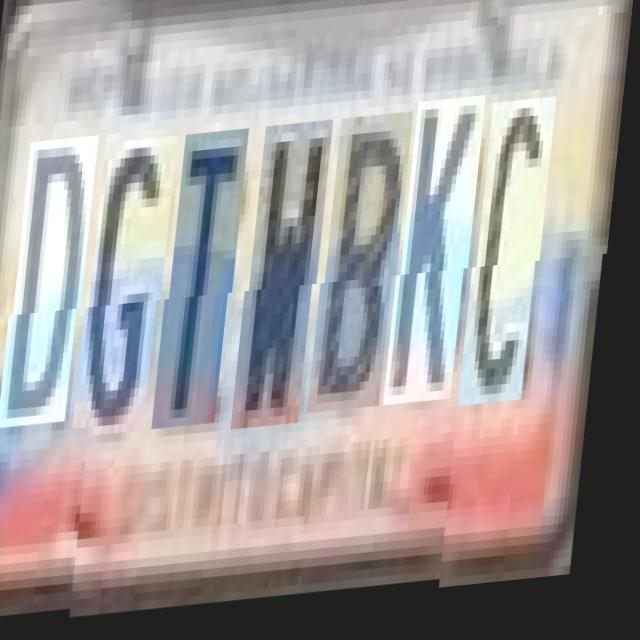B: (322, 120, 416, 420)
C: (472, 100, 560, 408)
D: (10, 146, 101, 438)
G: (86, 140, 181, 440)
K: (397, 106, 489, 414)
T: (165, 134, 252, 433)
W: (245, 127, 337, 435)
